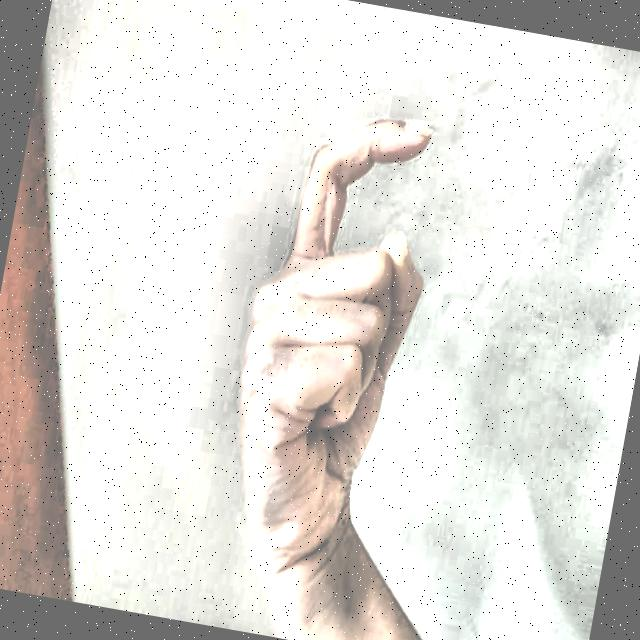E: (168, 58, 497, 592)
